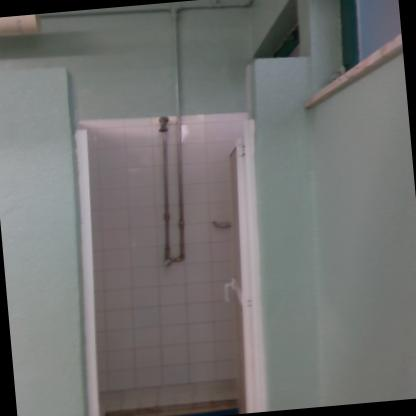open: (65, 87, 291, 415)
